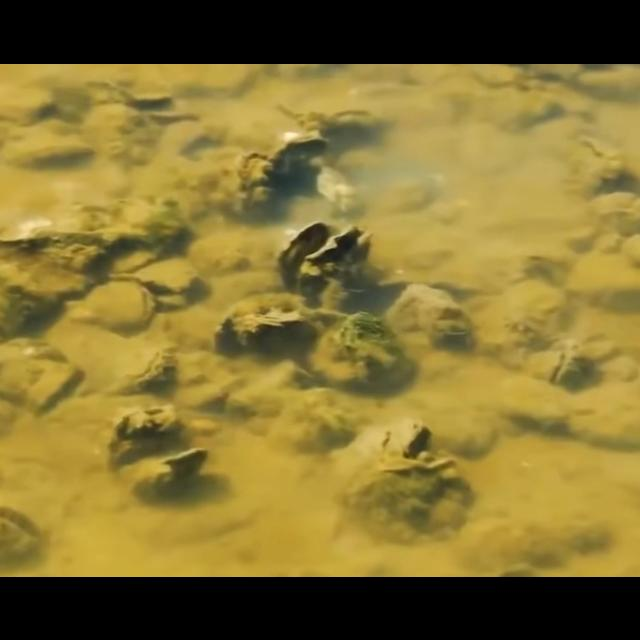Oyster-Closed: (347, 452, 475, 534), (310, 310, 412, 394), (218, 293, 318, 362), (0, 238, 91, 298), (388, 282, 472, 346), (104, 401, 184, 467), (80, 279, 156, 335), (526, 334, 588, 390), (118, 340, 178, 396), (233, 150, 283, 213)
Oyster-Open: (333, 415, 431, 477), (298, 225, 372, 301), (118, 257, 210, 309), (130, 444, 208, 502), (279, 220, 331, 296), (274, 134, 334, 198), (0, 499, 44, 566)
